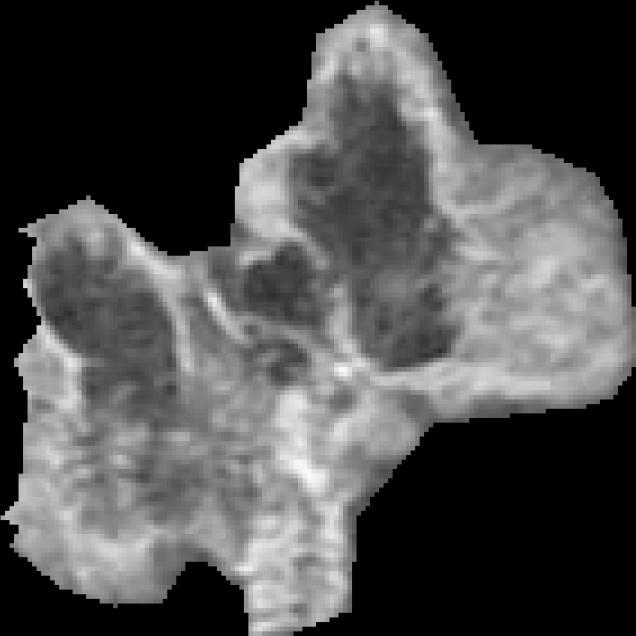tumor_moderate_chance: (1, 1, 636, 636)
